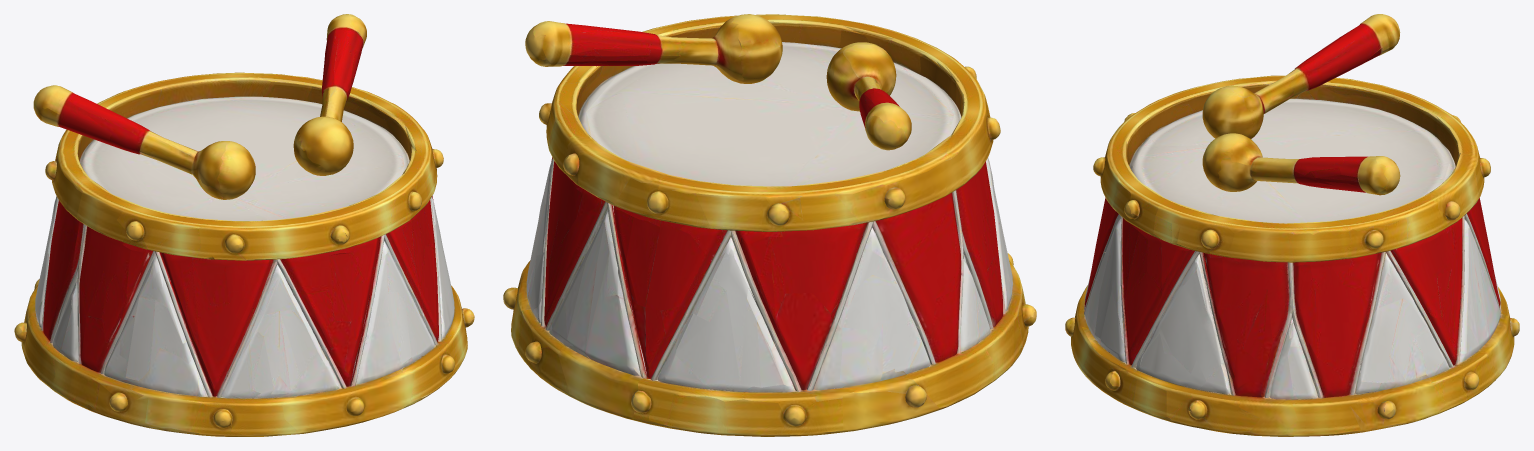
File: sym-drum.glb
3 views of the same model, side by side, from view 1: azimuth 30°, elevation 25°; view 2: azimuth 150°, elevation 25°; view 3: azimuth 270°, elevation 25° (orthographic). The views are drawn at different scales.
Visible parts, largest first — view 1: output_unwrapped; view 2: output_unwrapped; view 3: output_unwrapped.
Boxes of the visible parts, bbox=[...] form: output_unwrapped: bbox=[14, 14, 474, 436]; output_unwrapped: bbox=[503, 14, 1036, 436]; output_unwrapped: bbox=[1065, 14, 1519, 436].
Size of the model in its own units: 1.85 by 1.19 by 1.9.
1 material, 1 textured.
